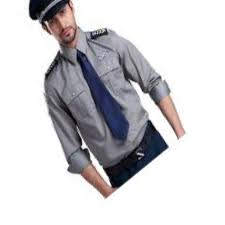uniform: (35, 43, 190, 199)
